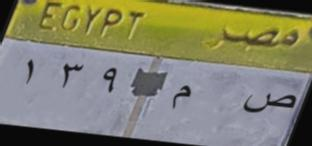1: (17, 55, 42, 95)
3: (49, 59, 89, 98)
9: (93, 65, 124, 92)
meem: (162, 81, 195, 114)
saad: (235, 85, 300, 115)
